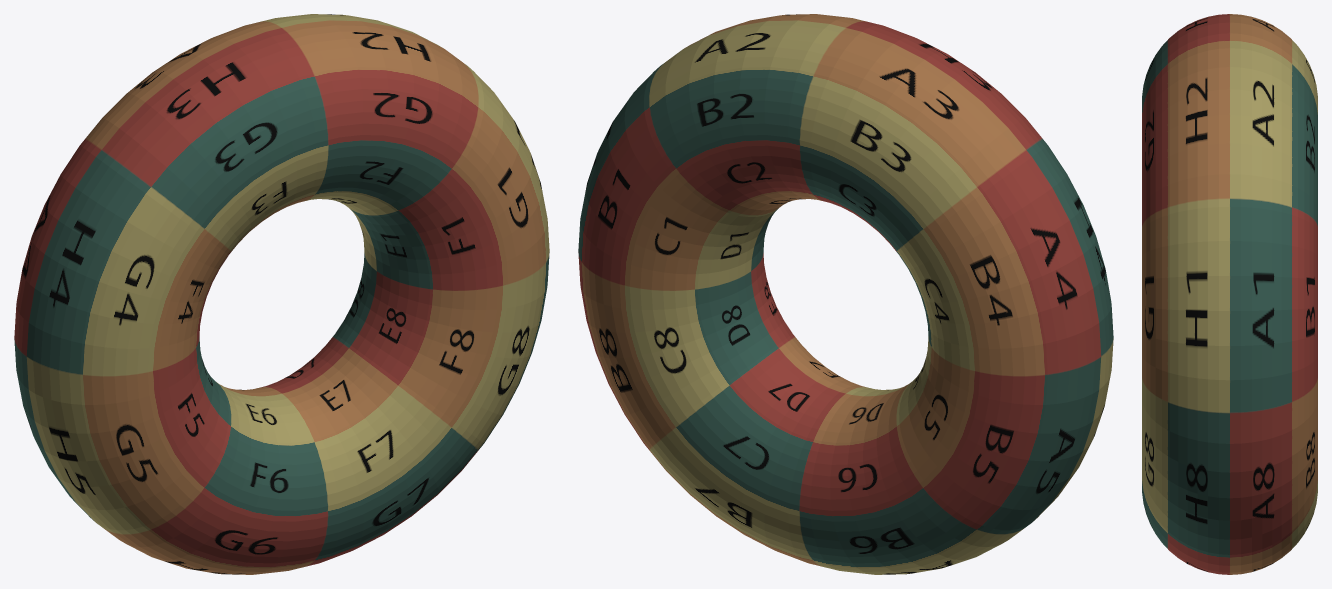
Rendered from texture_torus_R16_r28.glb.
3 views of the same model, side by side, from view 1: azimuth 30°, elevation 25°; view 2: azimuth 150°, elevation 25°; view 3: azimuth 270°, elevation 25° (orthographic). The views are drawn at different scales.
Parts seen in each view (by area): view 1: world; view 2: world; view 3: world.
Boxes of the visible parts, box(x1,y1,x2,y2) form: world: box(14, 14, 549, 574); world: box(578, 14, 1113, 574); world: box(1142, 14, 1317, 574).
Bounding box in the file's own units: 30.13 × 30.07 × 9.45.
Materials: 1 (1 with a texture image).
